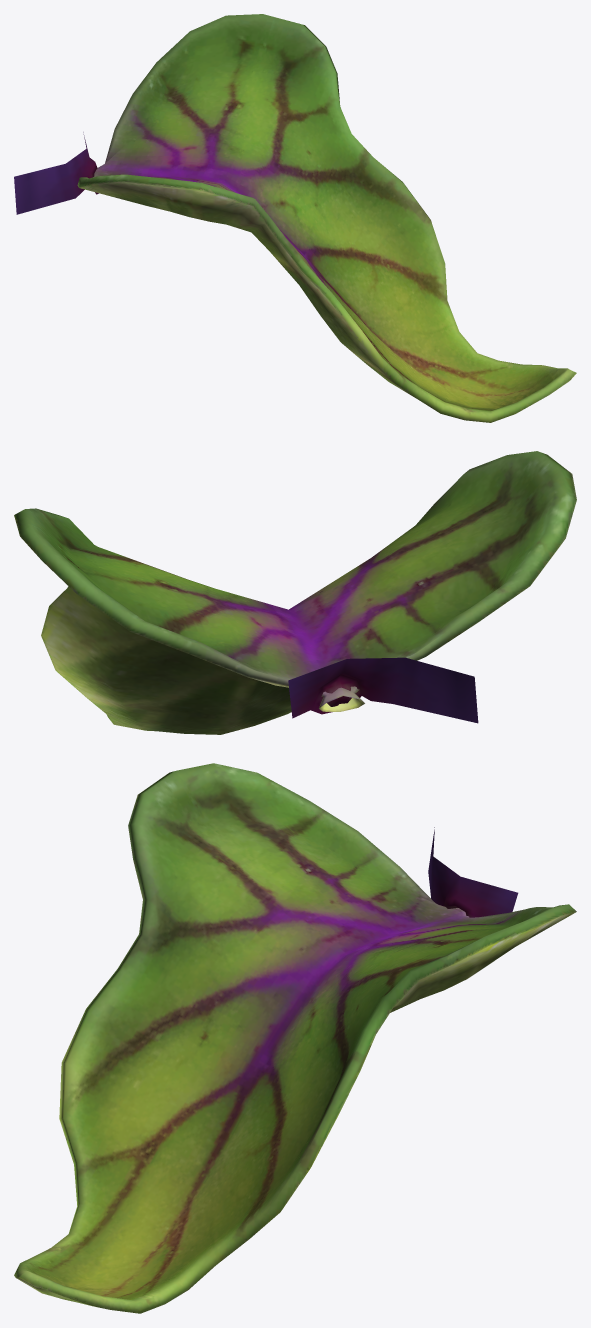
File: carnivora_hoja_del_izq.obj
3 views of the same model, one above another, from view 1: azimuth 30°, elevation 25°; view 2: azimuth 150°, elevation 25°; view 3: azimuth 270°, elevation 25° (orthographic). The views are drawn at different scales.
Visible parts, largest first — view 1: carnivora_hoja_del_izq; view 2: carnivora_hoja_del_izq; view 3: carnivora_hoja_del_izq.
Part boxes in pixels (box(x1,y1,x2,y2)): carnivora_hoja_del_izq: box(14, 14, 576, 422); carnivora_hoja_del_izq: box(14, 451, 576, 734); carnivora_hoja_del_izq: box(14, 763, 576, 1313).
Bounding box in the file's own units: 0.3653 × 0.2405 × 0.3589.
